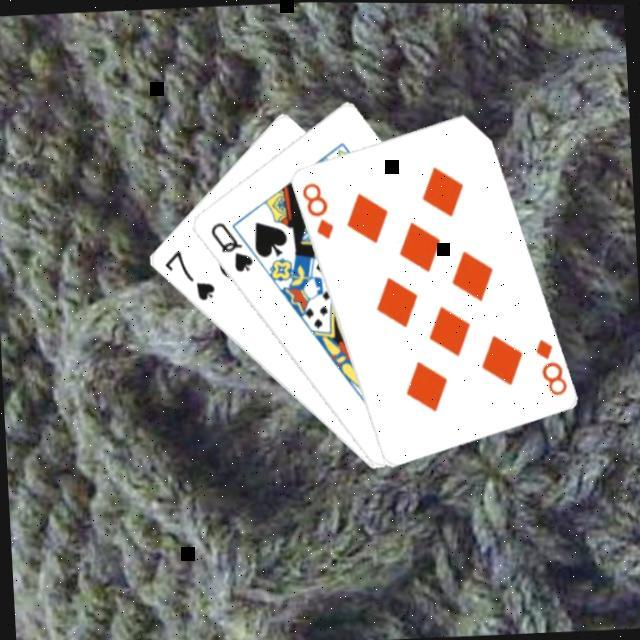7S: (162, 246, 220, 307)
8D: (299, 179, 338, 245), (533, 334, 571, 400)
QS: (208, 219, 258, 277)
